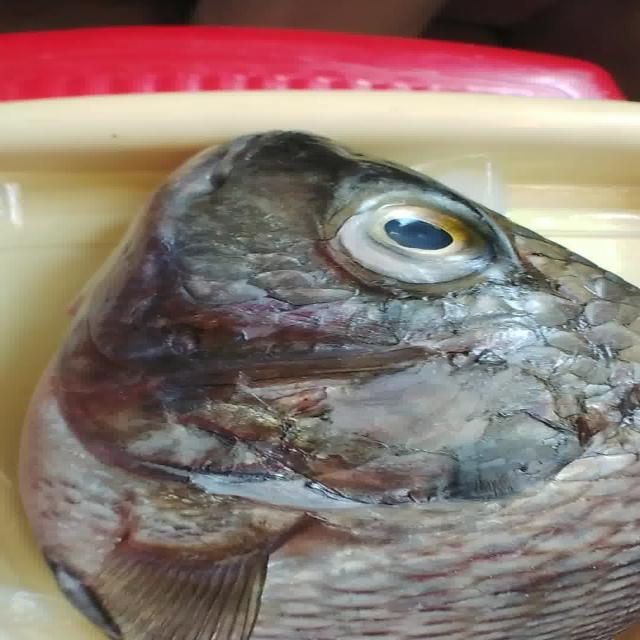Fresh: (316, 171, 522, 291)
